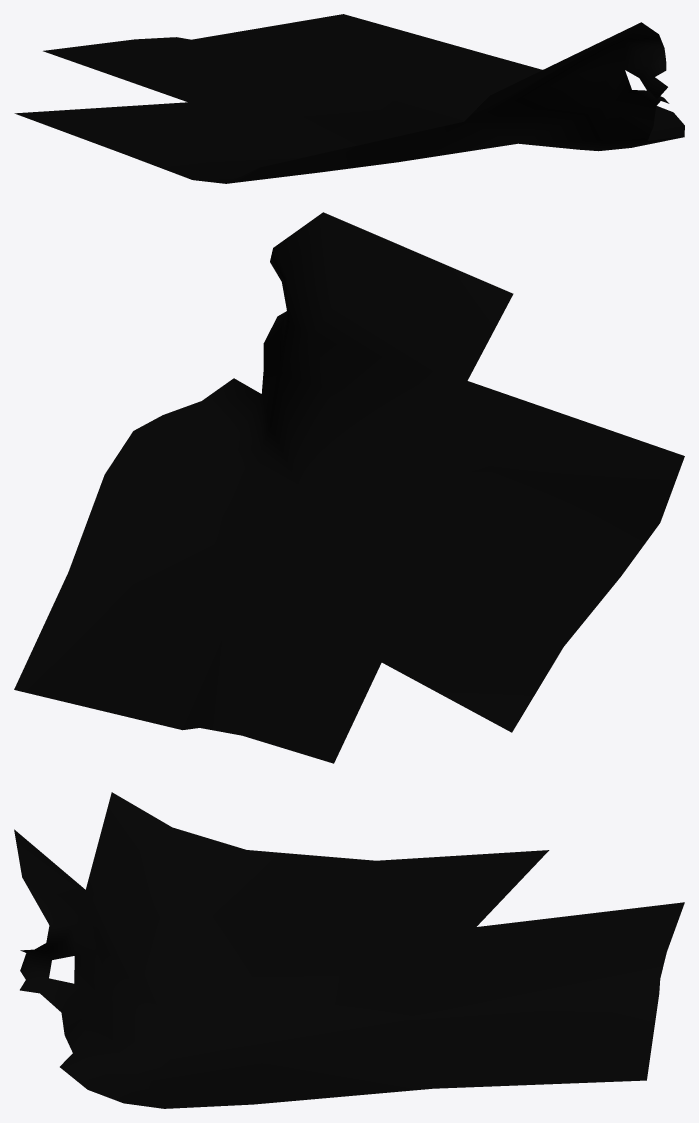
The model's file is HTOWN01_TREESHADOWS15.fbx.
3 views of the same model, one above another, from view 1: azimuth 30°, elevation 25°; view 2: azimuth 150°, elevation 25°; view 3: azimuth 270°, elevation 25° (orthographic). The views are drawn at different scales.
Parts seen in each view (by area): view 1: HTOWN01_TREESHADOWS15; view 2: HTOWN01_TREESHADOWS15; view 3: HTOWN01_TREESHADOWS15.
Part boxes in pixels (x1,y1,x2,y2): HTOWN01_TREESHADOWS15: (14, 14, 684, 183); HTOWN01_TREESHADOWS15: (14, 212, 684, 763); HTOWN01_TREESHADOWS15: (14, 792, 684, 1108).
Bounding box in the file's own units: 125465 × 46847 × 133059.
Materials: 1 (1 with a texture image).
